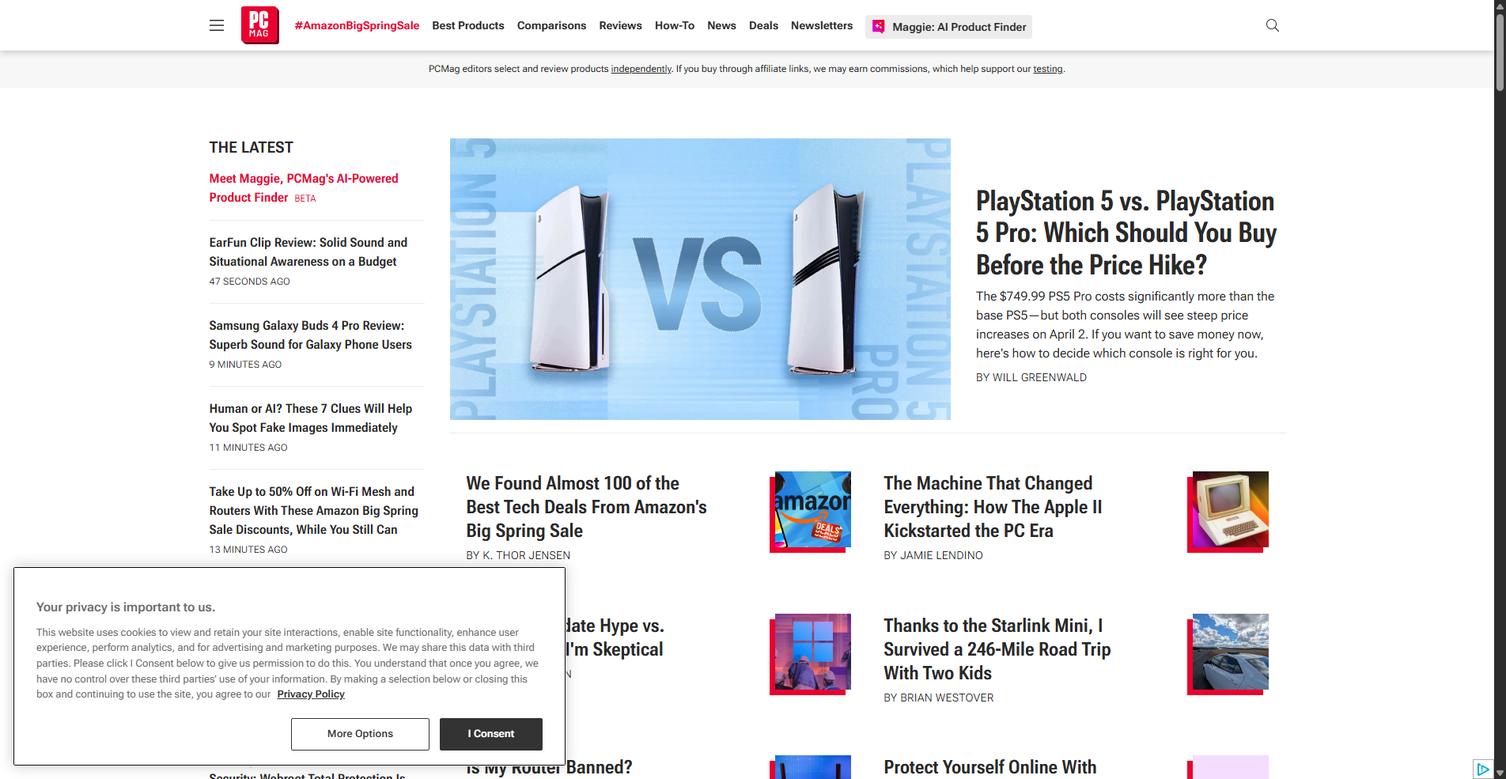button: (209, 169, 424, 207), (291, 718, 429, 751), (866, 15, 1033, 39), (440, 718, 543, 751), (1260, 13, 1285, 38)
checkbox: (208, 17, 209, 17)
label: (209, 17, 225, 33)
link: (450, 138, 1285, 434), (867, 472, 1285, 563), (867, 614, 1285, 705), (450, 472, 867, 563), (450, 614, 867, 690), (209, 586, 420, 639), (209, 484, 418, 537), (209, 669, 405, 722), (867, 756, 1285, 779), (450, 756, 867, 779), (209, 318, 412, 352), (209, 401, 412, 435), (209, 234, 408, 268), (209, 752, 417, 779), (235, 0, 285, 51), (295, 19, 419, 35), (432, 19, 504, 35), (517, 19, 587, 35), (791, 19, 853, 35), (277, 688, 345, 700), (599, 19, 642, 35), (611, 63, 671, 74), (655, 19, 695, 35), (707, 19, 736, 35), (749, 19, 778, 35), (1033, 63, 1063, 74)
